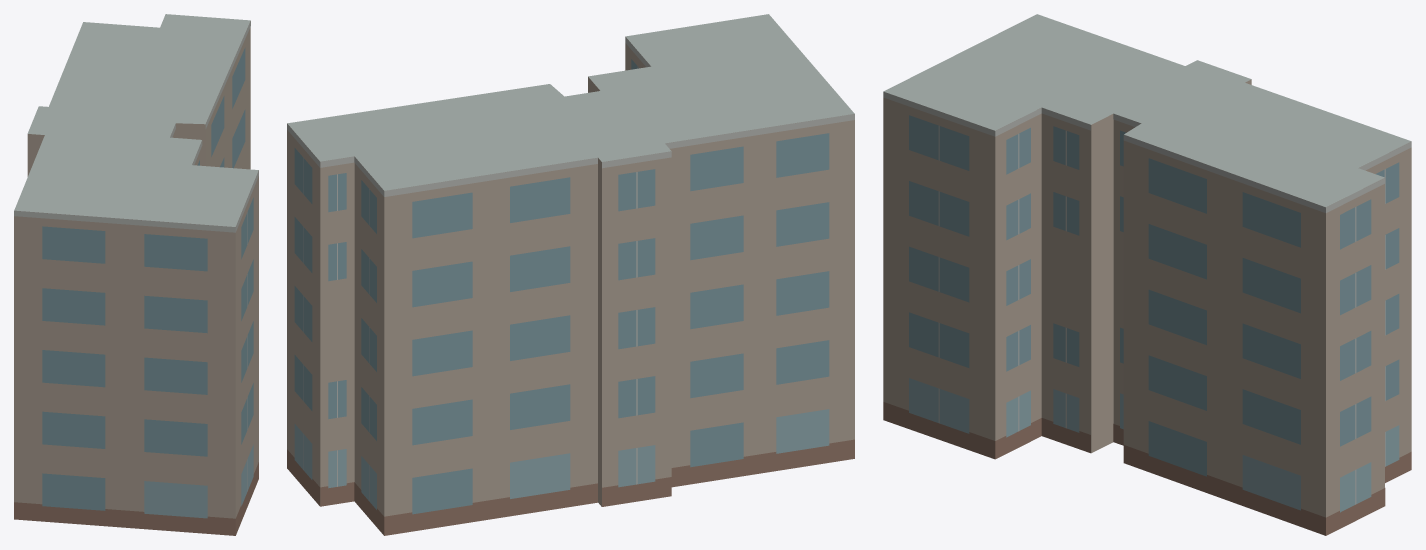
The model's file is survey-upis-32628648.glb.
The picture shows the model from 3 angles, left to right: view 1: azimuth 30°, elevation 25°; view 2: azimuth 150°, elevation 25°; view 3: azimuth 270°, elevation 25°; orthographic projection. The views are drawn at different scales.
Parts seen in each view (by area): view 1: survey-upis-32628648.tmp; view 2: survey-upis-32628648.tmp; view 3: survey-upis-32628648.tmp.
Part boxes in pixels (<box>): survey-upis-32628648.tmp: <box>14,14,258,535</box>; survey-upis-32628648.tmp: <box>287,14,854,535</box>; survey-upis-32628648.tmp: <box>883,14,1411,535</box>.
Size of the model in its own units: 17.11 by 13.55 by 19.76.
